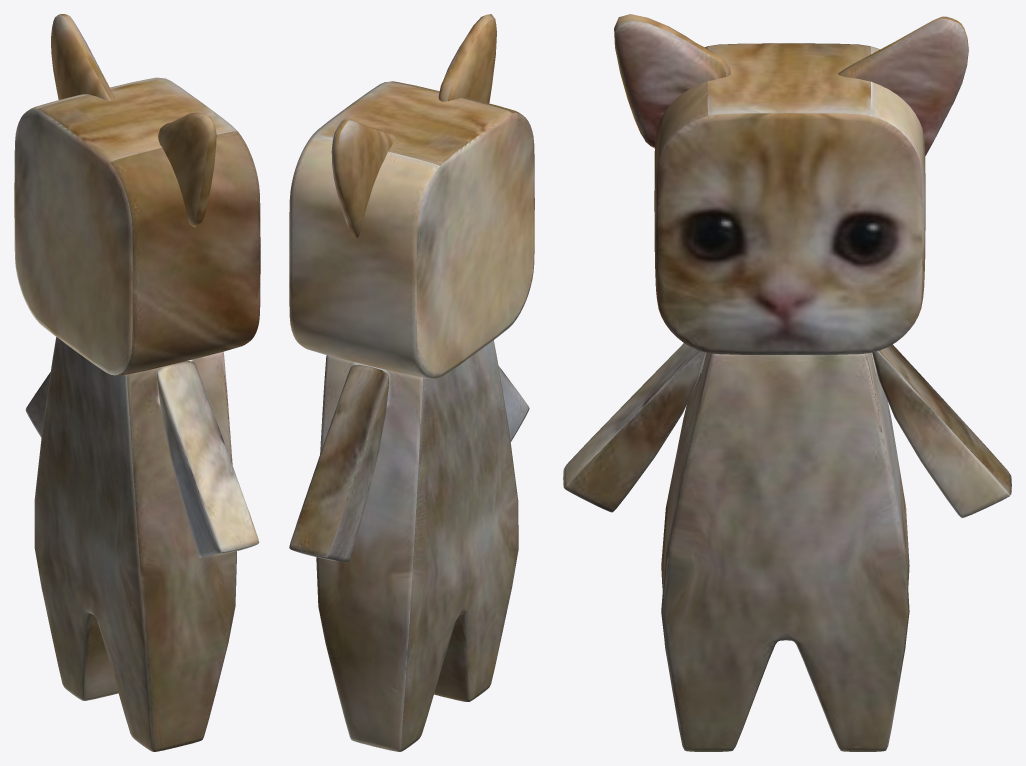
3 views of the same model, side by side, from view 1: azimuth 30°, elevation 25°; view 2: azimuth 150°, elevation 25°; view 3: azimuth 270°, elevation 25° (orthographic). The views are drawn at different scales.
Visible parts, largest first — view 1: kitty; view 2: kitty; view 3: kitty.
Part boxes in pixels (x1,y1,x2,y2): kitty: (14, 14, 260, 751); kitty: (289, 14, 534, 751); kitty: (563, 14, 1011, 751).
Size of the model in its own units: 0.6909 by 3.23 by 1.81.
